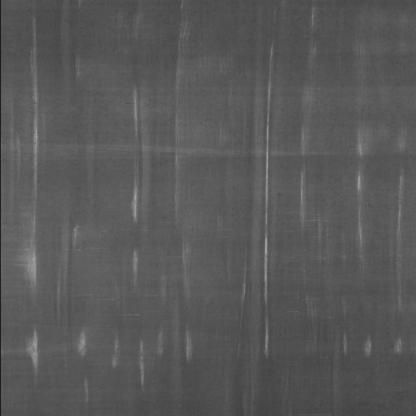waist_folding: (17, 53, 377, 380)
